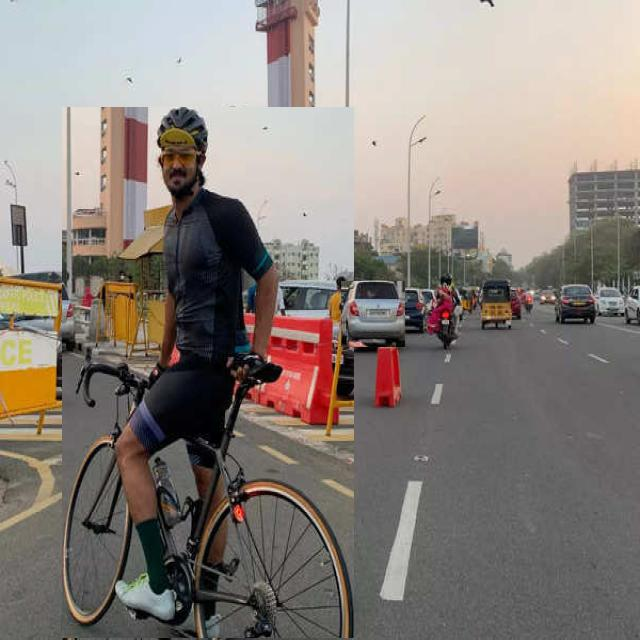autorickshaw: (481, 280, 512, 328)
bicycle: (62, 107, 354, 638)
car: (341, 281, 405, 347), (555, 285, 596, 323)
